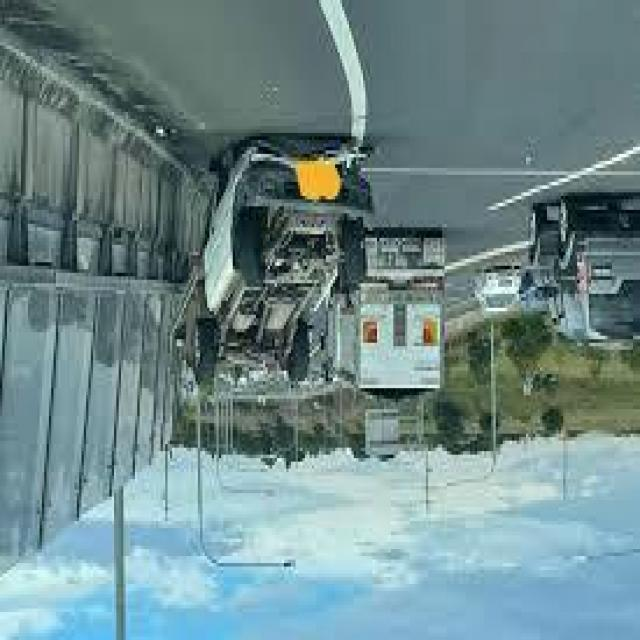severe: (174, 142, 374, 418)
